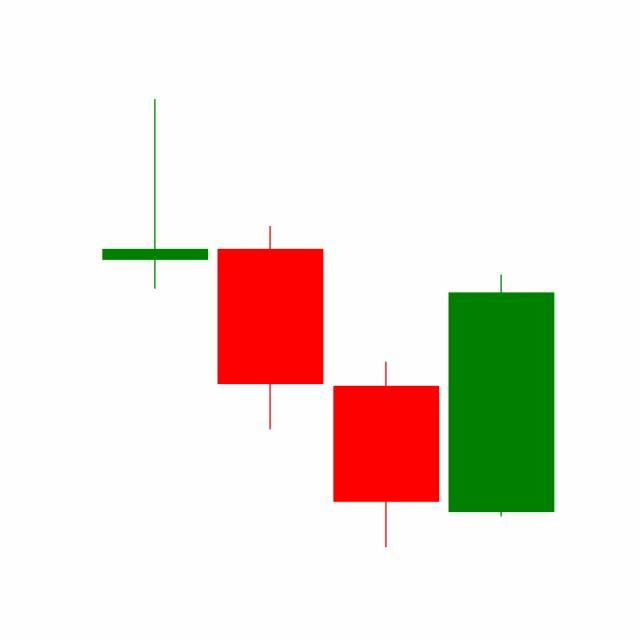Morning Star: (211, 222, 555, 549)
